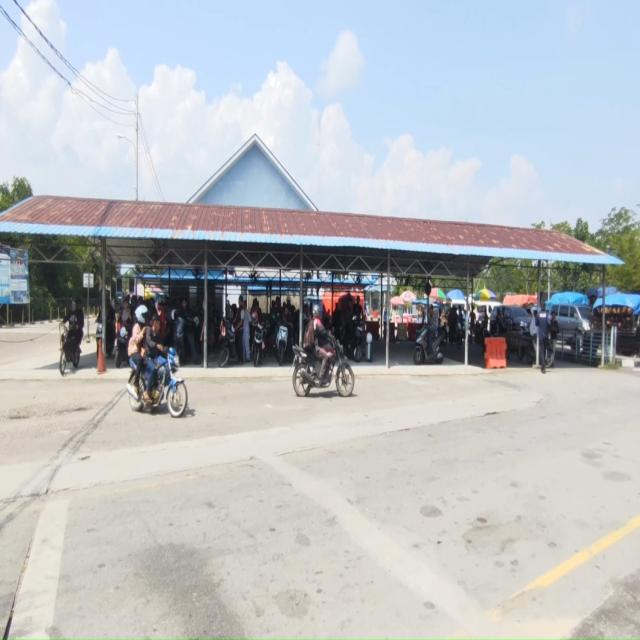Golongan II: (126, 347, 188, 418), (292, 335, 354, 397), (413, 324, 447, 365), (517, 336, 554, 367), (59, 324, 81, 376), (218, 320, 238, 367), (96, 313, 115, 357), (351, 315, 366, 363), (115, 321, 130, 368), (251, 321, 265, 366), (173, 316, 185, 362), (276, 324, 288, 366)
